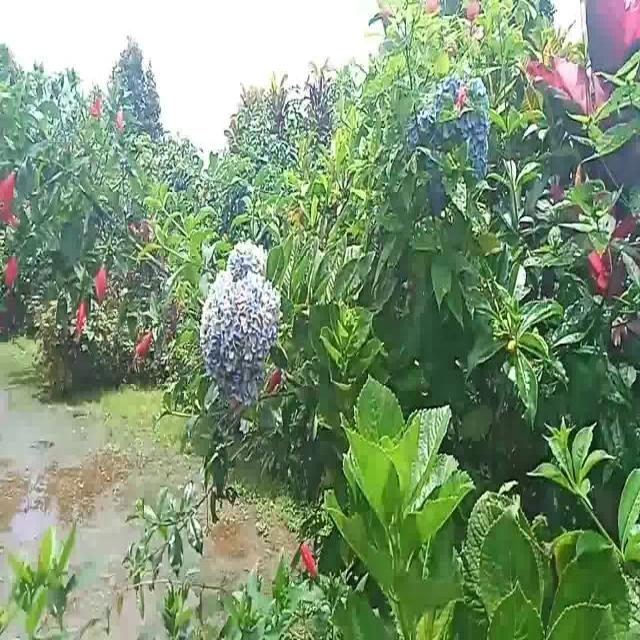Flower: (202, 235, 277, 381), (419, 52, 495, 194)
